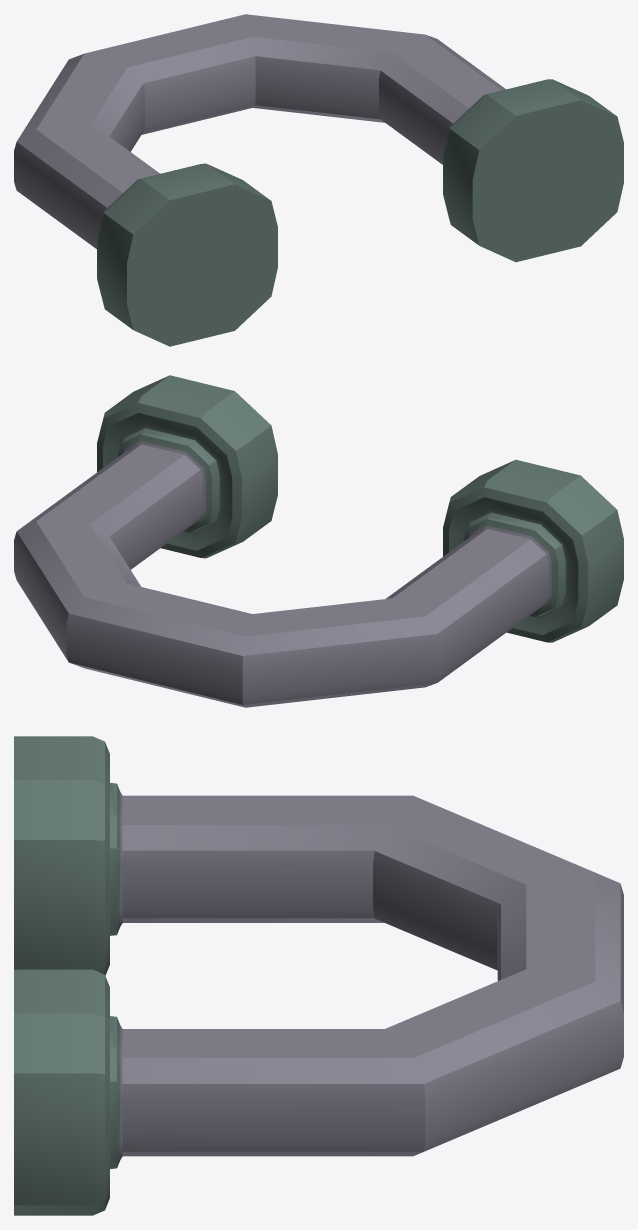
Rendered from Kette_02.fbx.
3 renders of one model, top to bottom at view 1: azimuth 30°, elevation 25°; view 2: azimuth 150°, elevation 25°; view 3: azimuth 270°, elevation 25°, orthographic. The views are drawn at different scales.
Parts seen in each view (by area): view 1: Kette_02; view 2: Kette_02; view 3: Kette_02.
Boxes of the visible parts, left/top/right/bottom form: Kette_02: left=14, top=14, right=623, bottom=346; Kette_02: left=14, top=375, right=623, bottom=707; Kette_02: left=14, top=736, right=623, bottom=1215.
Size of the model in its own units: 266 by 74.73 by 204.
